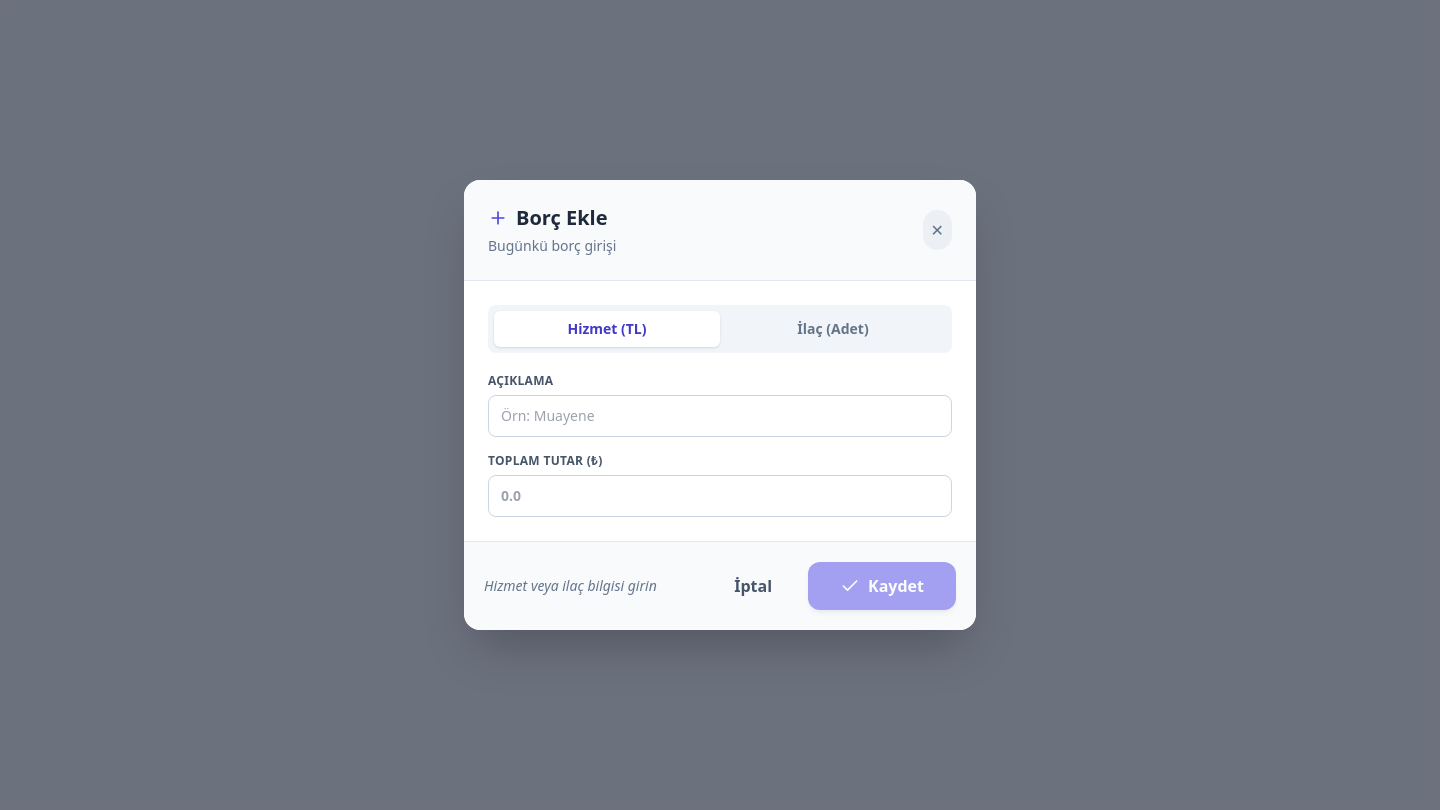
Test: DebtModal › adimlayici adedi artirir ve azaltir
Step 1. Click the button "İlaç (Adet)" → (833, 329), box [720, 311, 946, 347]
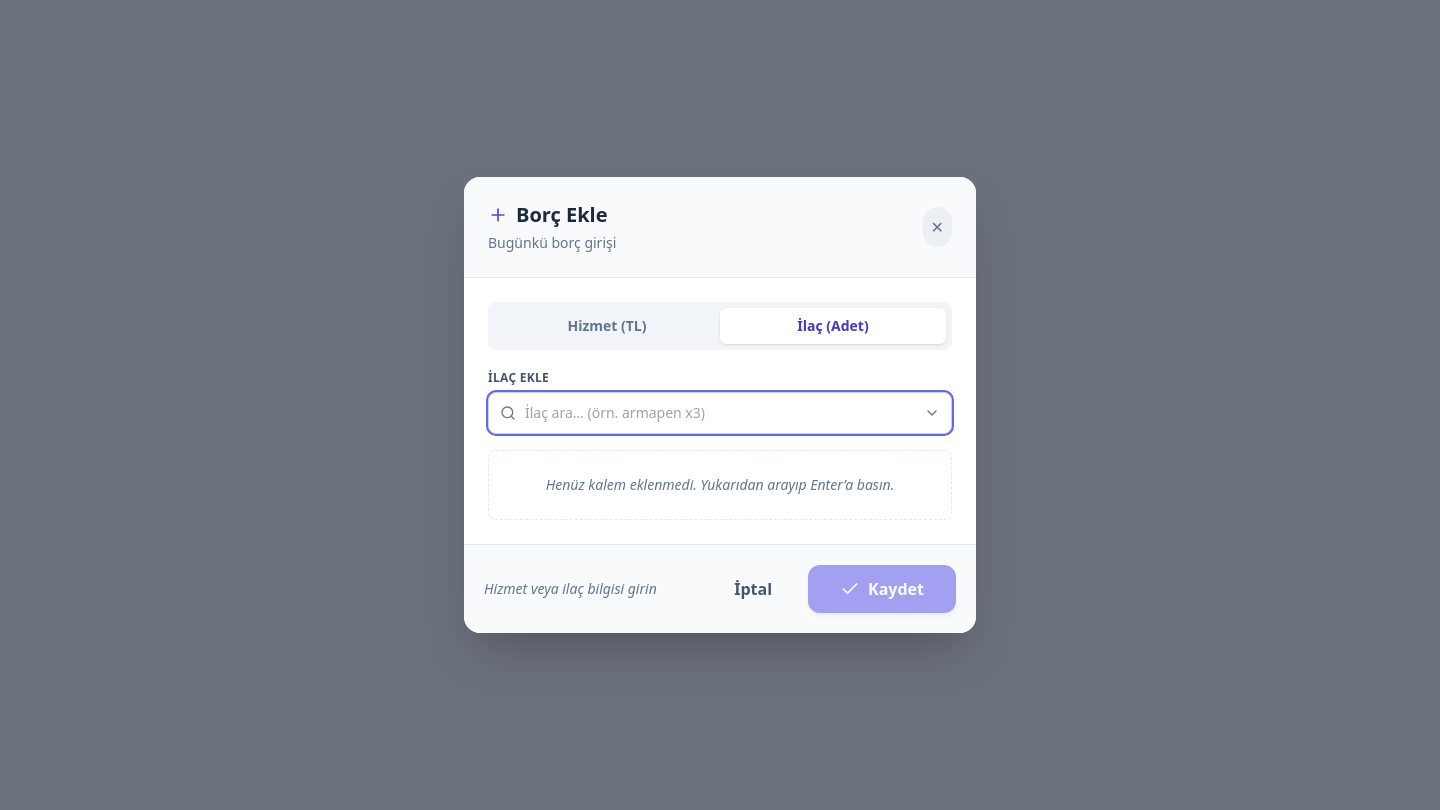
Step 2. Type "Amoksisilin" into the dropdown → (720, 413), box [488, 392, 952, 434]
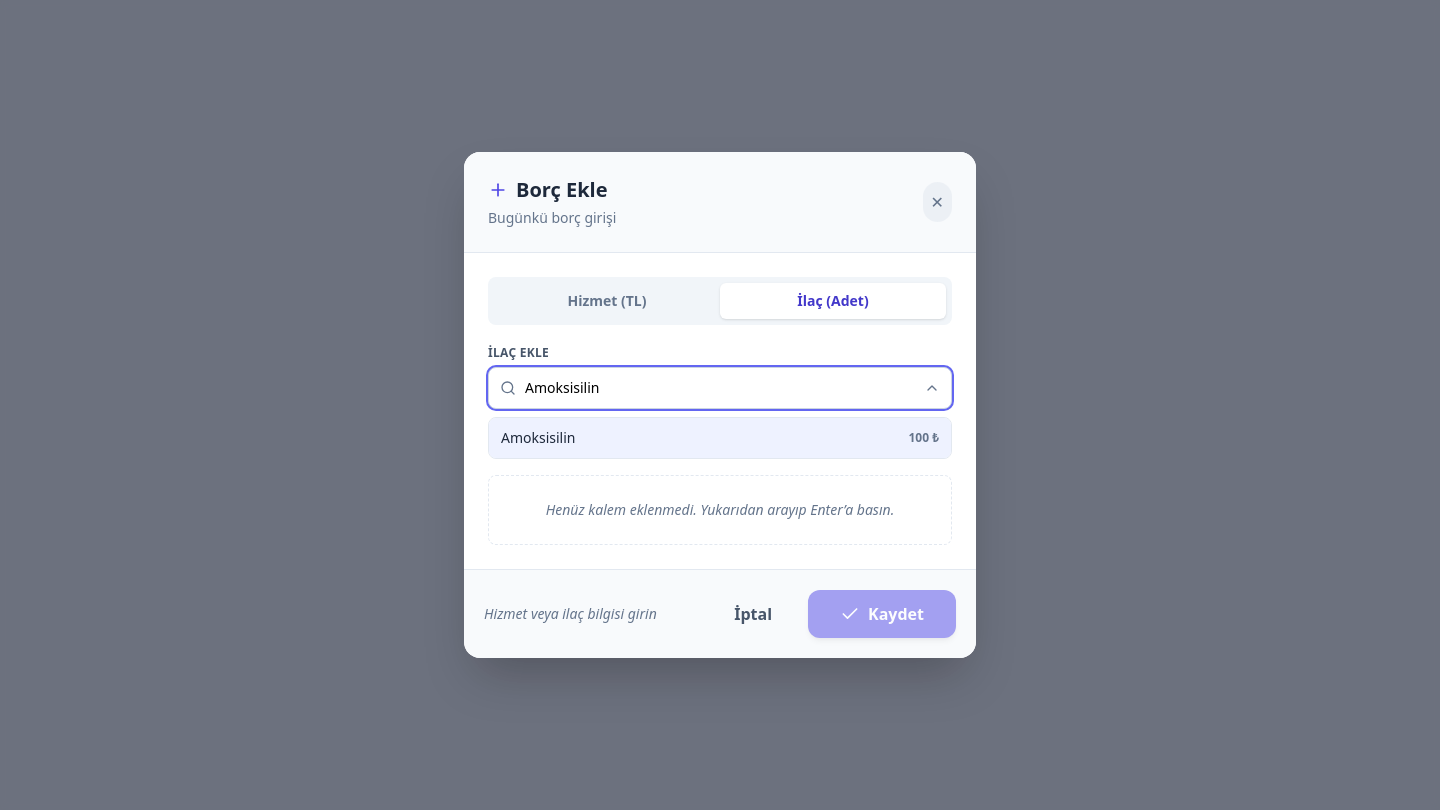
Step 3. Click the option "Amoksisilin 100 ₺" → (538, 438), box [489, 418, 951, 458]
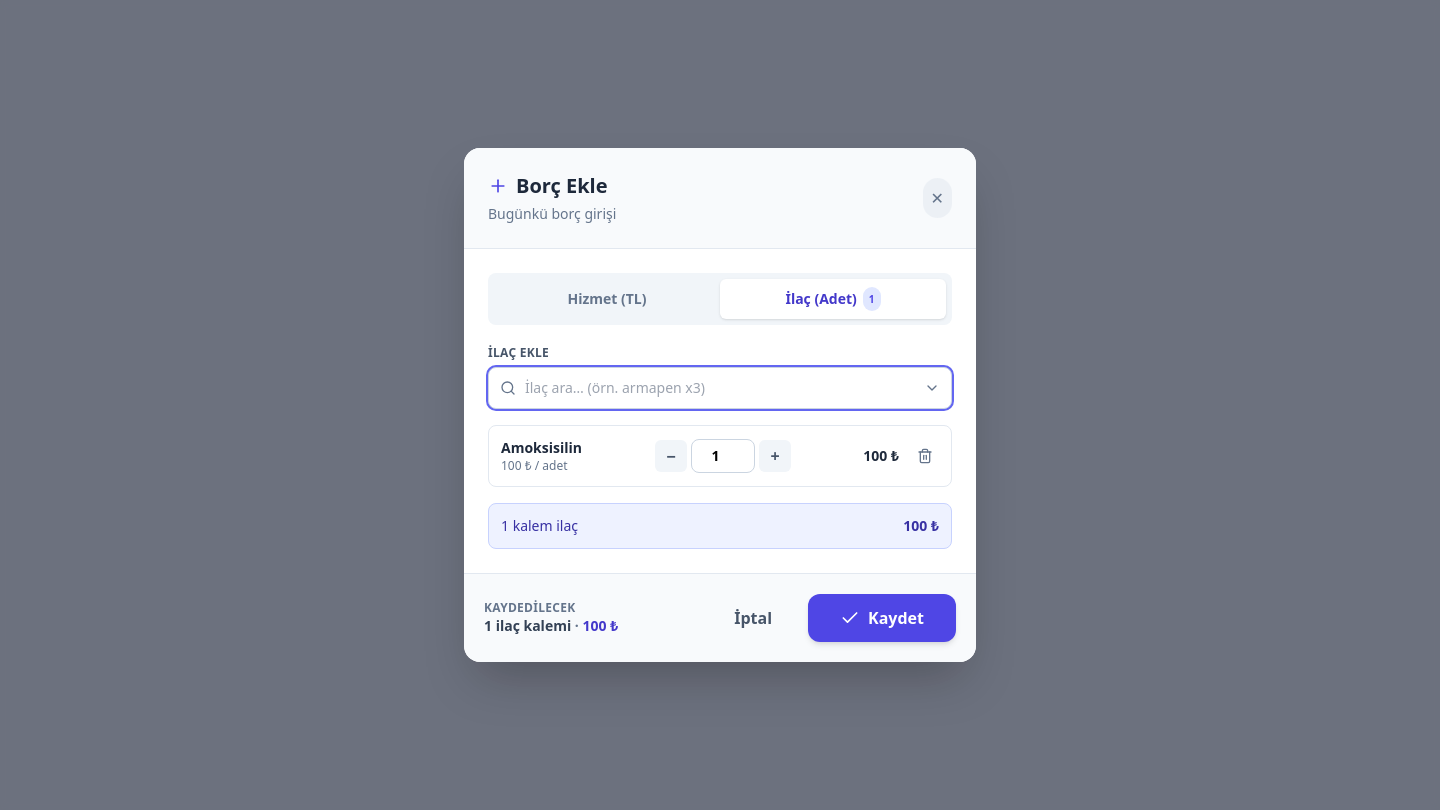
Step 4. Click the button titled "Adet artır" → (775, 456), box [759, 440, 791, 472]
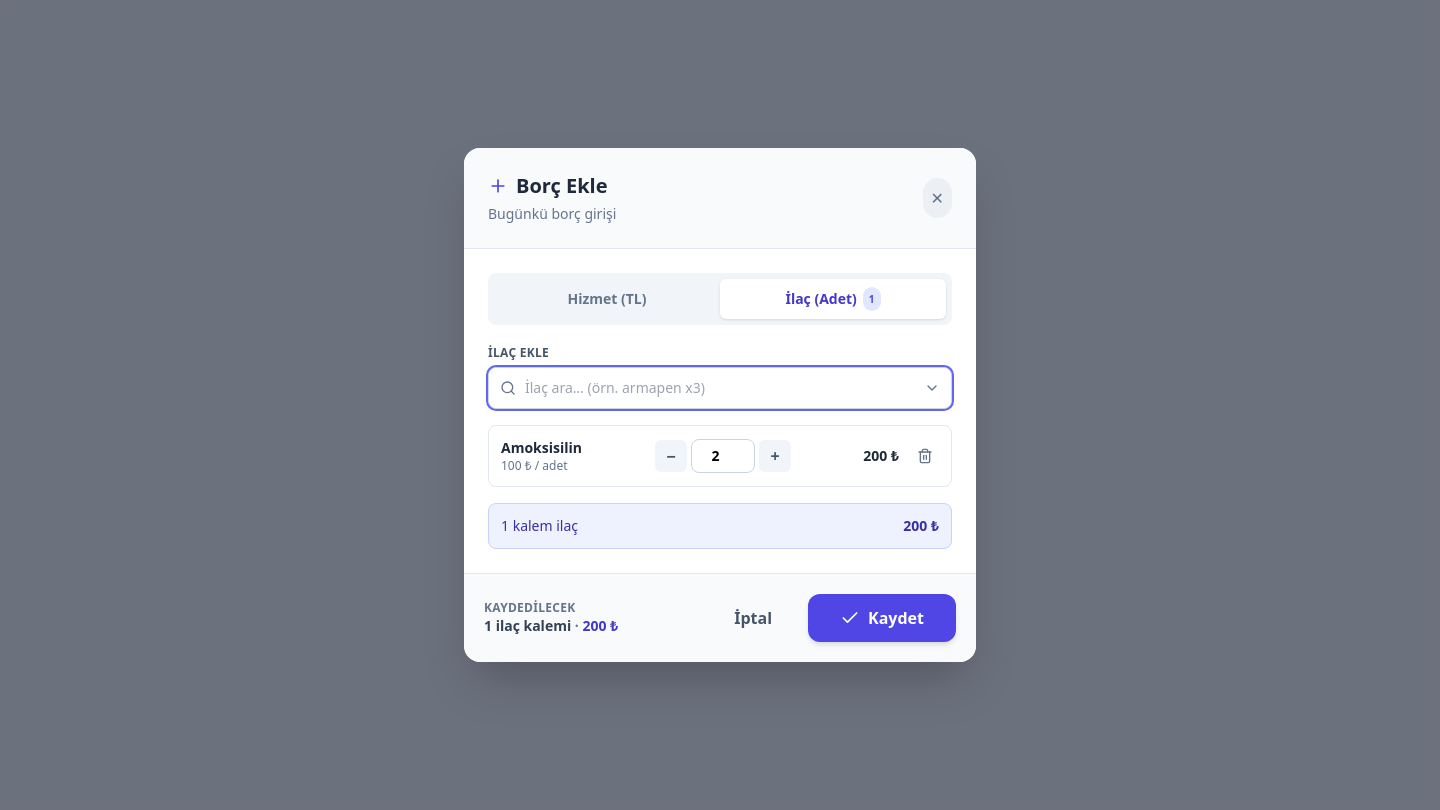
Result: the number field named "Adet" holds "2" at [691, 439, 755, 473]
Step 5. Click the button titled "Adet azalt" → (671, 456), box [655, 440, 687, 472]
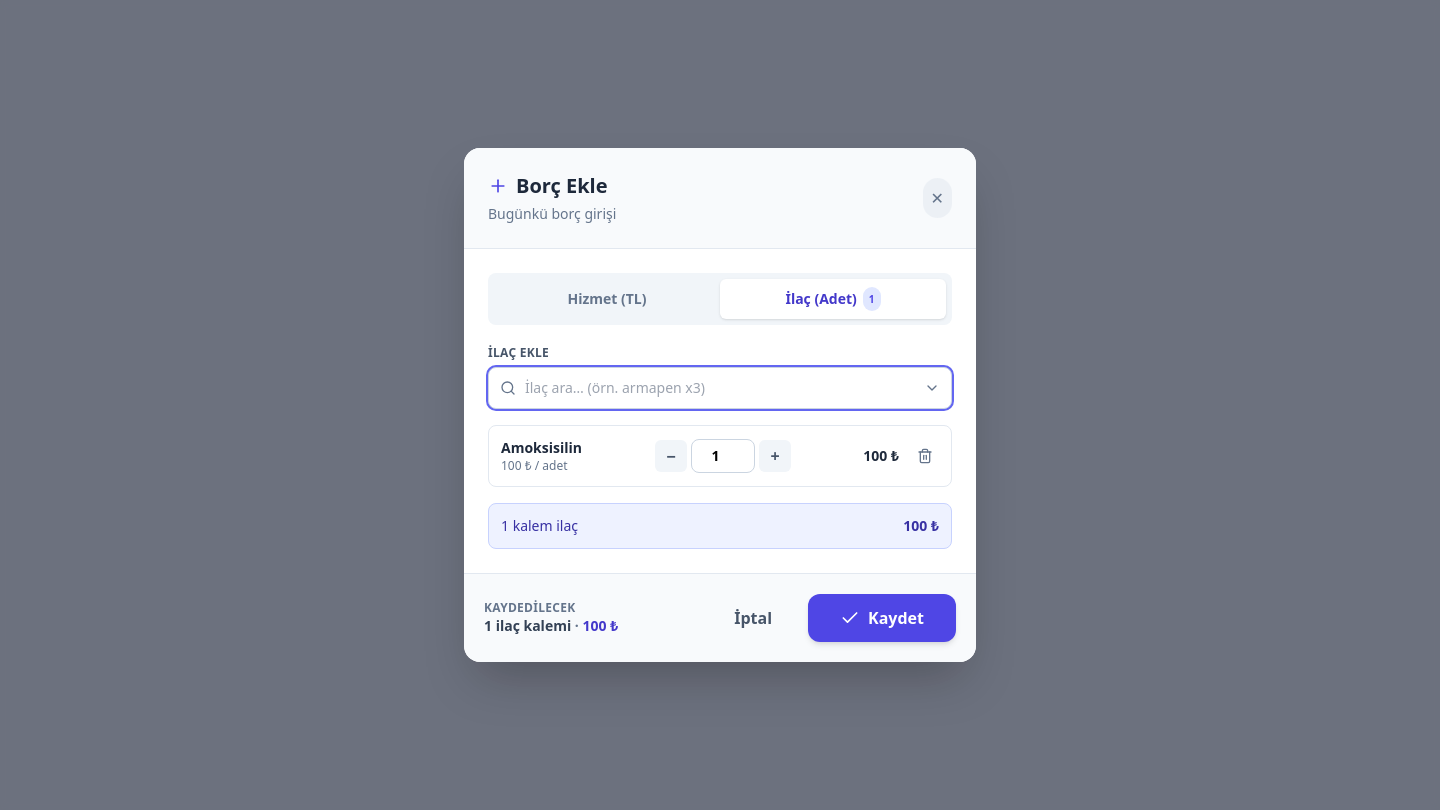
Result: the number field named "Adet" holds "1" at [691, 439, 755, 473]
